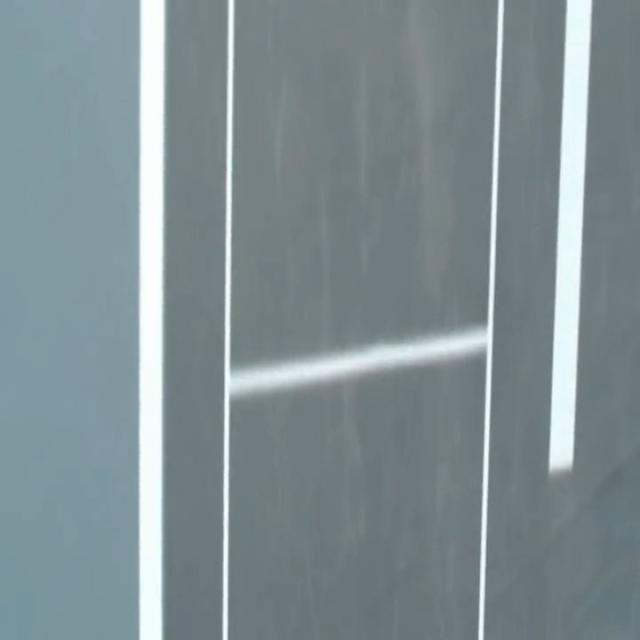center: (548, 0, 592, 475)
left: (139, 0, 164, 639)
